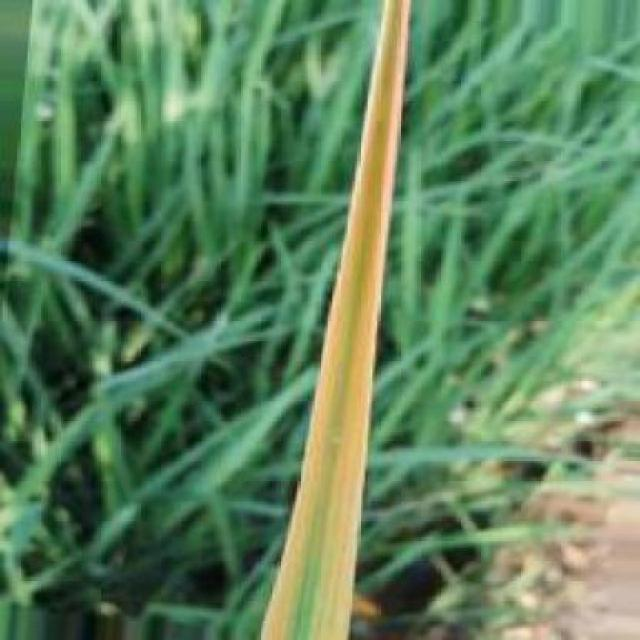Rice Tungro: (250, 2, 418, 638)
